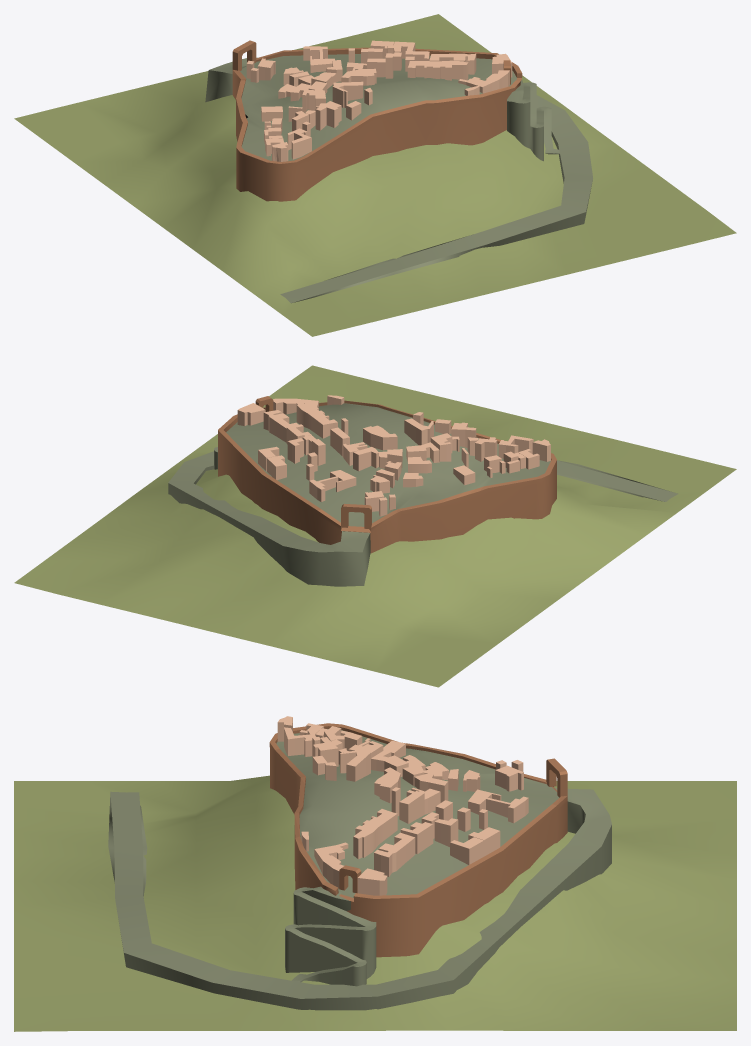
The model's file is ville_v17.fbx.
3 renders of one model, top to bottom at view 1: azimuth 30°, elevation 25°; view 2: azimuth 150°, elevation 25°; view 3: azimuth 270°, elevation 25°, orthographic. The views are drawn at different scales.
Parts seen in each view (by area): view 1: Ville; view 2: Ville; view 3: Ville.
Part boxes in pixels (box(x1,y1,x2,y2)): Ville: box(14, 14, 736, 336); Ville: box(14, 365, 736, 687); Ville: box(14, 716, 736, 1031).
Bounding box in the file's own units: 986 × 242 × 1200.
